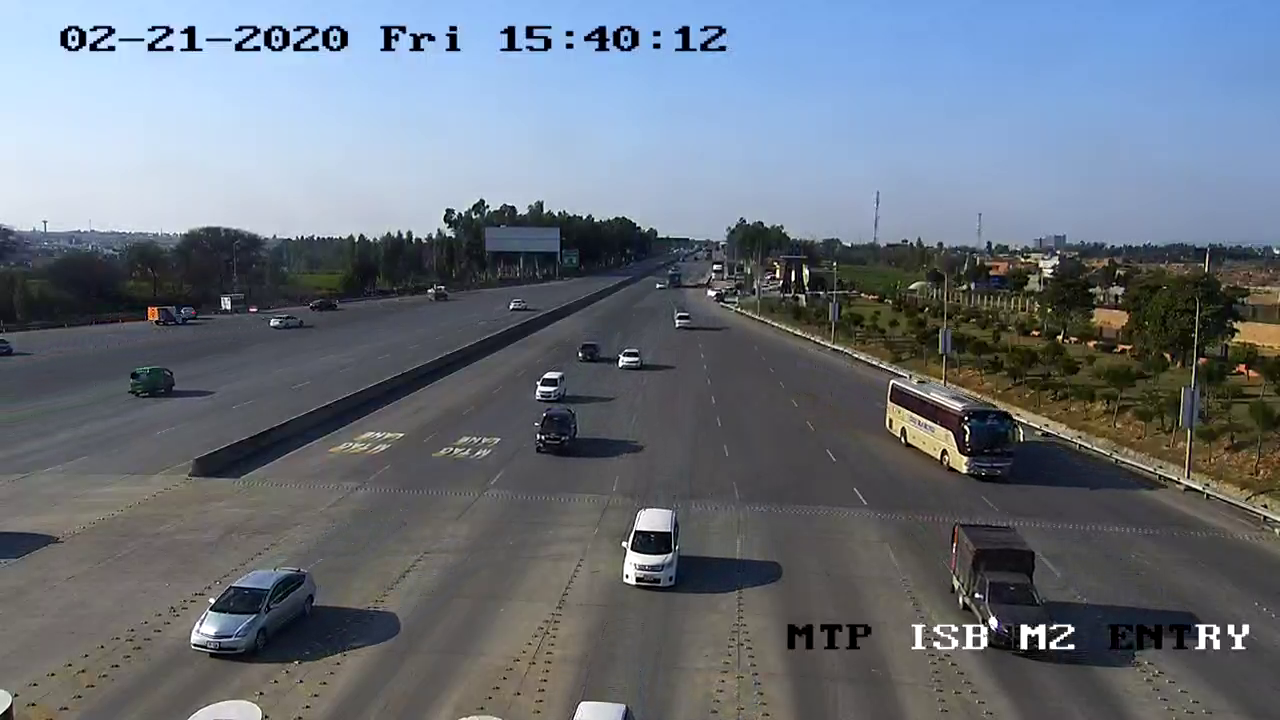f1: (174, 555, 343, 669), (605, 505, 688, 595), (523, 355, 580, 412)
f4: (877, 370, 1042, 495), (531, 403, 583, 468)
